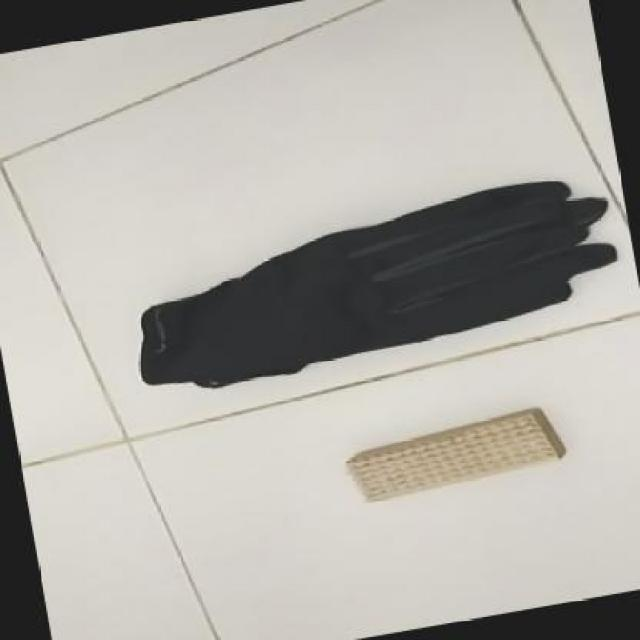glove: (138, 179, 617, 389)
